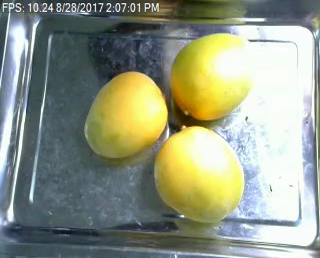Mango: (153, 125, 244, 224), (170, 29, 258, 122), (79, 70, 167, 159)
